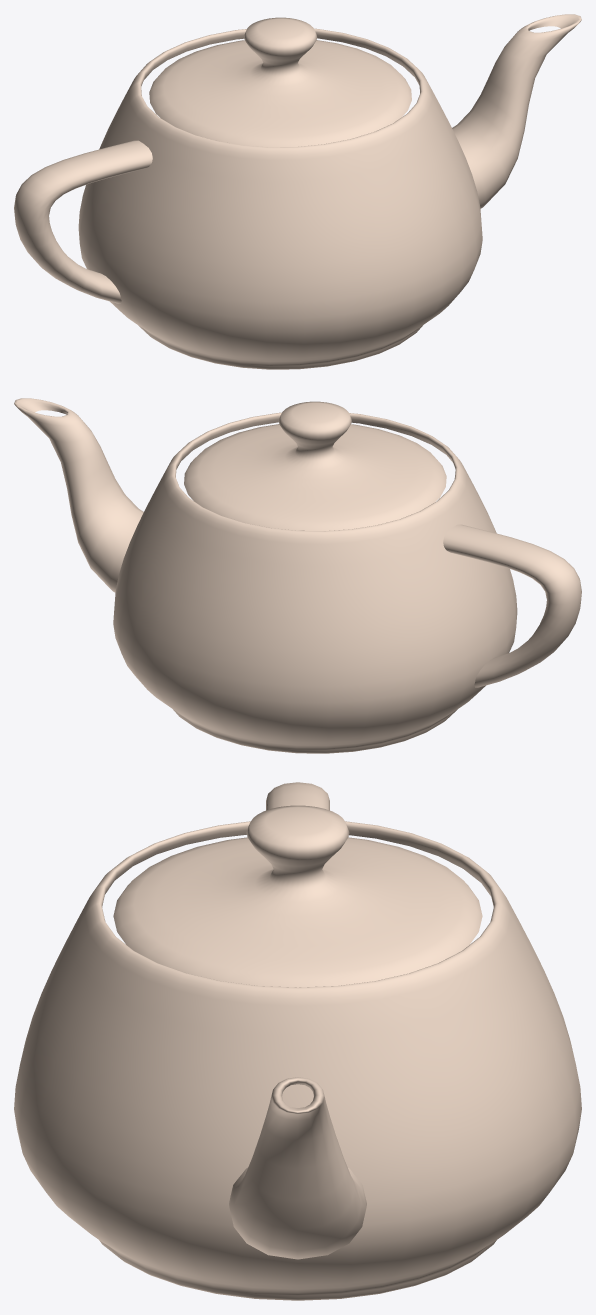
Rendered from Teapot_Prueba.glb.
The picture shows the model from 3 angles, top to bottom: view 1: azimuth 30°, elevation 25°; view 2: azimuth 150°, elevation 25°; view 3: azimuth 270°, elevation 25°; orthographic projection. The views are drawn at different scales.
Visible parts, largest first — view 1: Teapot001; view 2: Teapot001; view 3: Teapot001.
Part boxes in pixels (box(x1,y1,x2,y2)): Teapot001: box(14, 14, 581, 369); Teapot001: box(14, 398, 581, 753); Teapot001: box(14, 782, 581, 1300).
Size of the model in its own units: 0.6882 by 0.337 by 0.4279.
